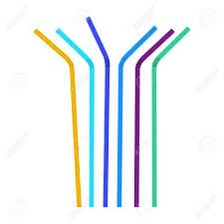drinking_straw: (29, 25, 85, 209), (146, 22, 193, 209), (81, 13, 113, 209)
